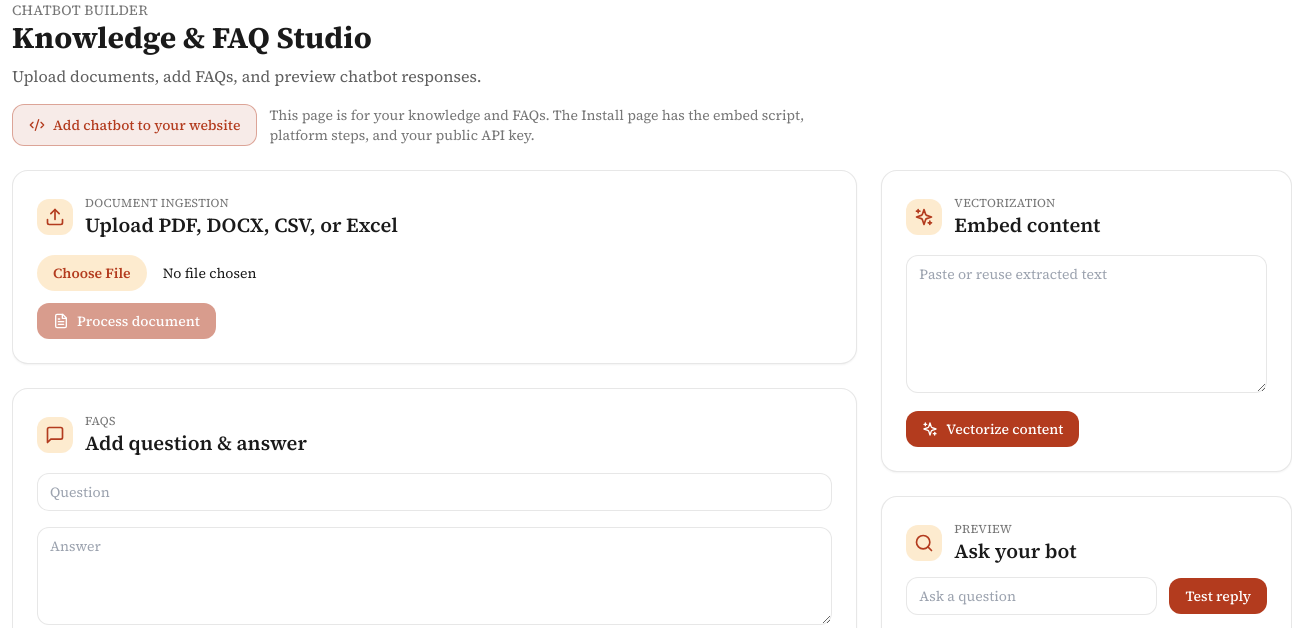
Scenario: ChatbotBuilder preview › displays preview answer and confidence from production path
Type "hours?" into the field with placeholder "Ask a question" at (1032, 596), box [906, 577, 1157, 615]
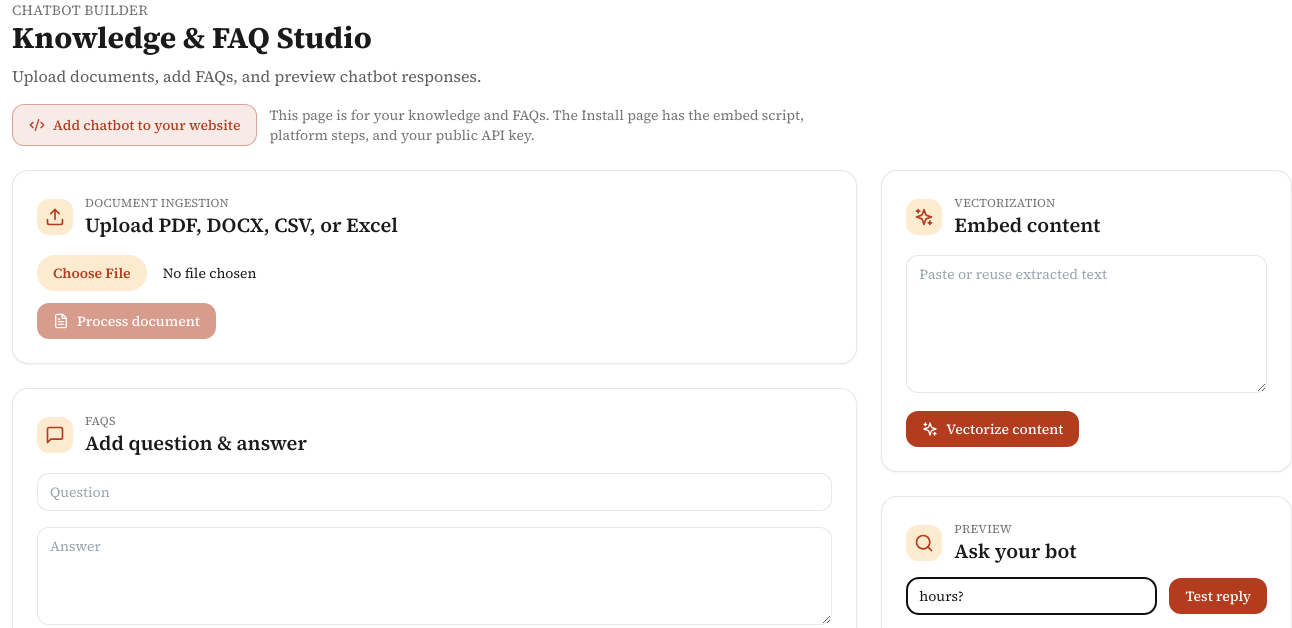
Click the button "Test reply" at (1218, 596), box [1169, 578, 1267, 614]
(page scrolled)
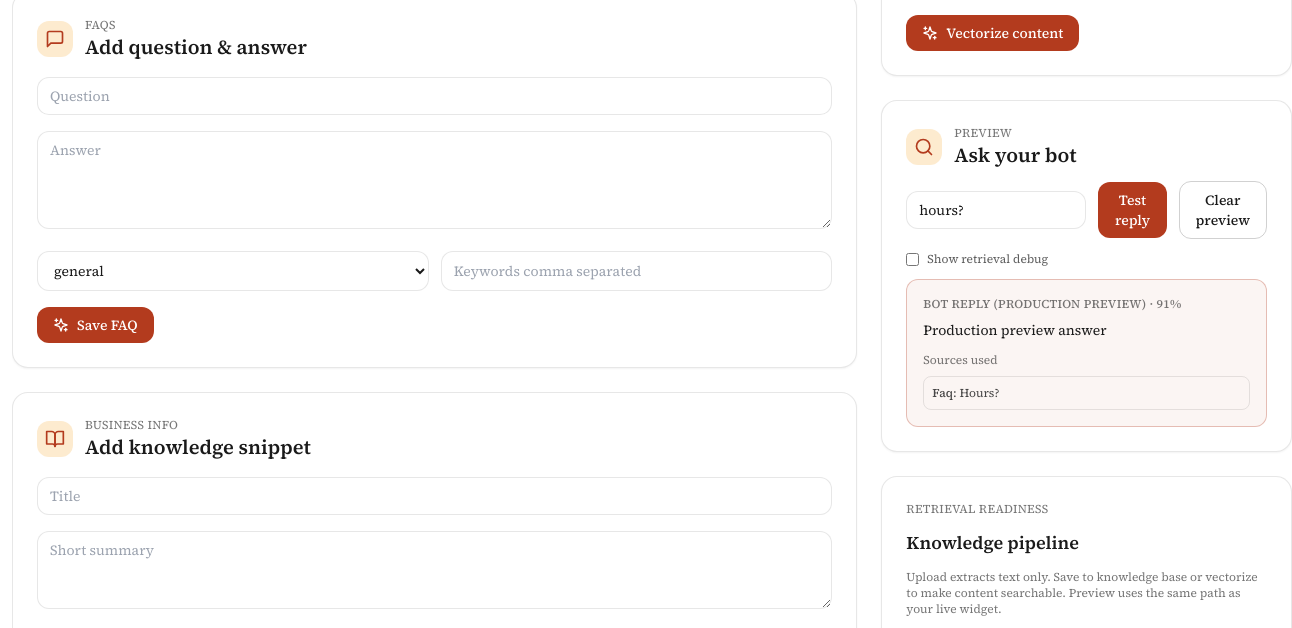
Expected: the text "Production preview answer" is shown, [923, 320, 1106, 340]
Expected: the text "Bot reply (Production preview) · 91%" is shown, [923, 296, 1182, 312]
Expected: the text "Sources used" is shown, [923, 352, 998, 368]
